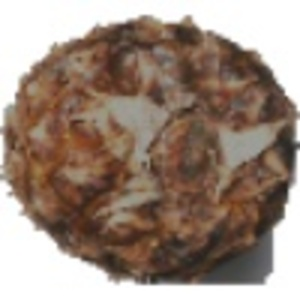abacaxi: (5, 11, 297, 277)
